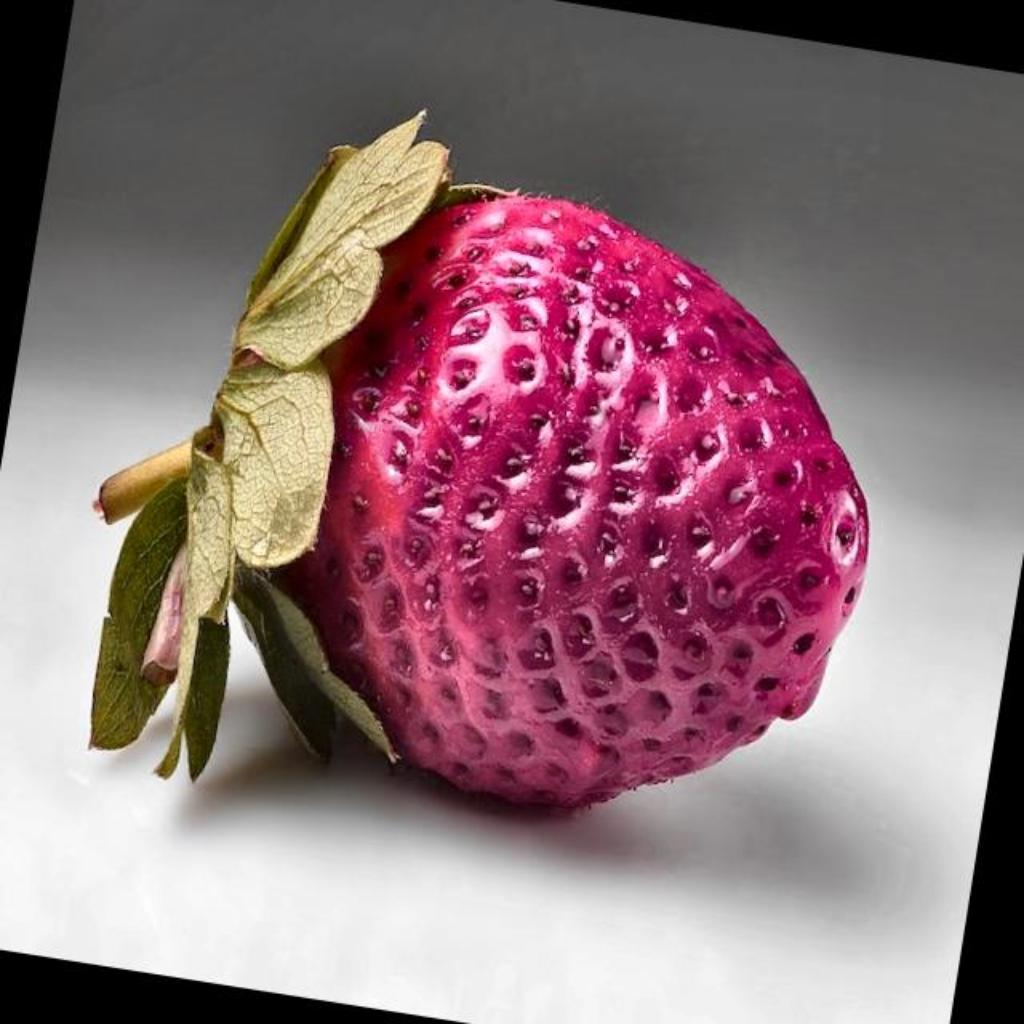strawberry: (90, 114, 868, 805)
